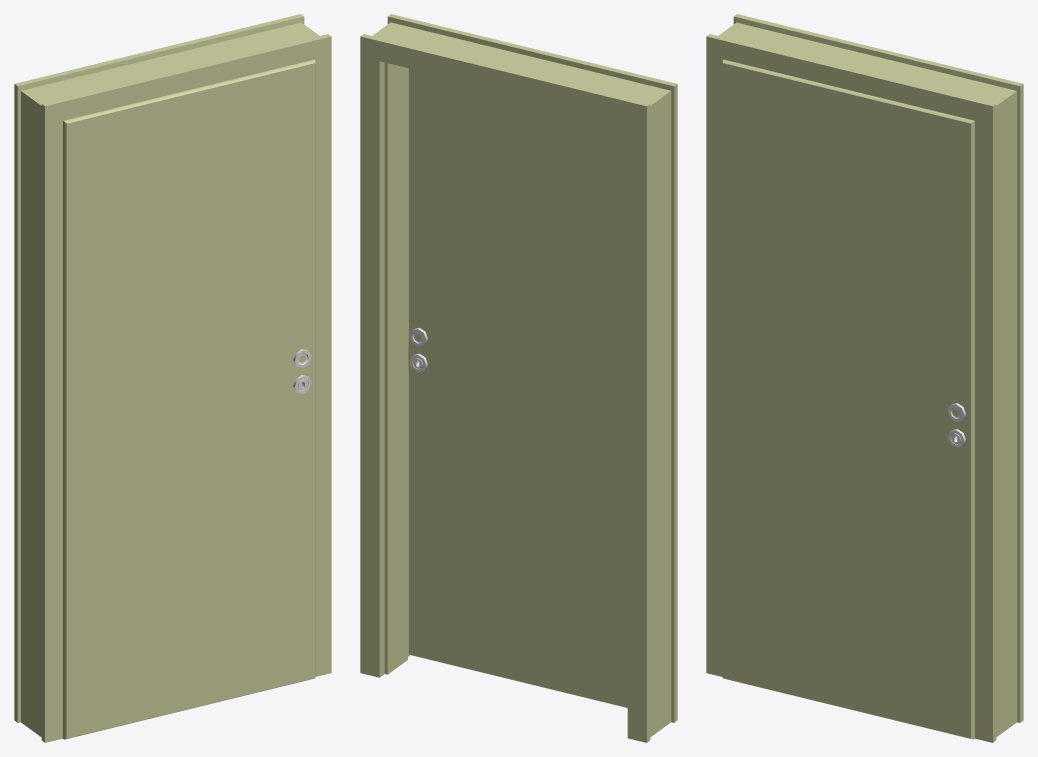
Rendered from onlyDoor.glb.
The picture shows the model from 3 angles, left to right: view 1: azimuth 30°, elevation 25°; view 2: azimuth 150°, elevation 25°; view 3: azimuth 330°, elevation 25°; orthographic projection.
Parts seen in each view (by area): view 1: Plane.003, Plane.002; view 2: Plane.003, Plane.002; view 3: Plane.003, Plane.002.
Part boxes in pixels (x1,y1,x2,y2): Plane.003: [63, 59, 315, 739]; Plane.002: [14, 14, 331, 742]; Plane.003: [408, 68, 627, 707]; Plane.002: [360, 14, 677, 742]; Plane.003: [722, 59, 974, 739]; Plane.002: [706, 14, 1023, 742].
Size of the model in its own units: 1.76 by 3.74 by 0.3743.
